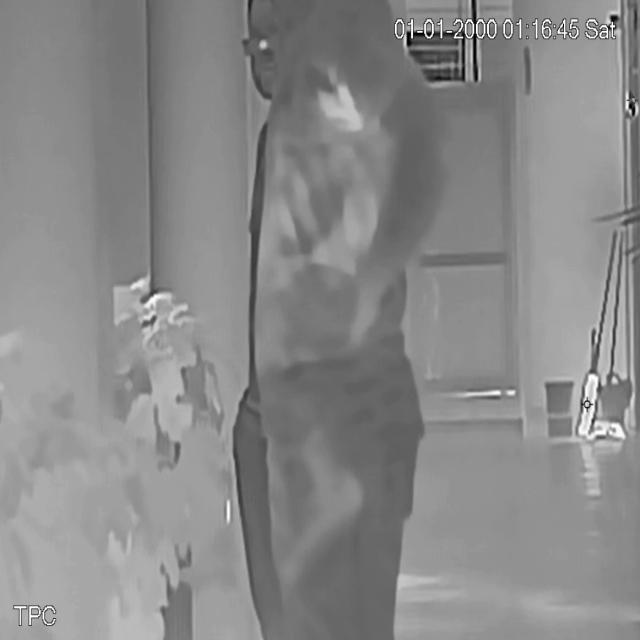Weapon: (259, 431, 372, 611)
